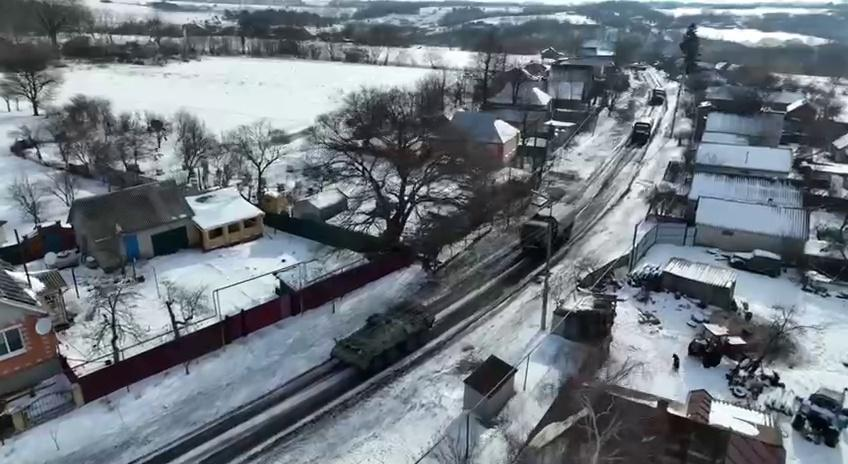tank: (329, 298, 436, 375)
truck: (518, 202, 576, 255), (632, 117, 655, 141), (651, 88, 666, 104)
